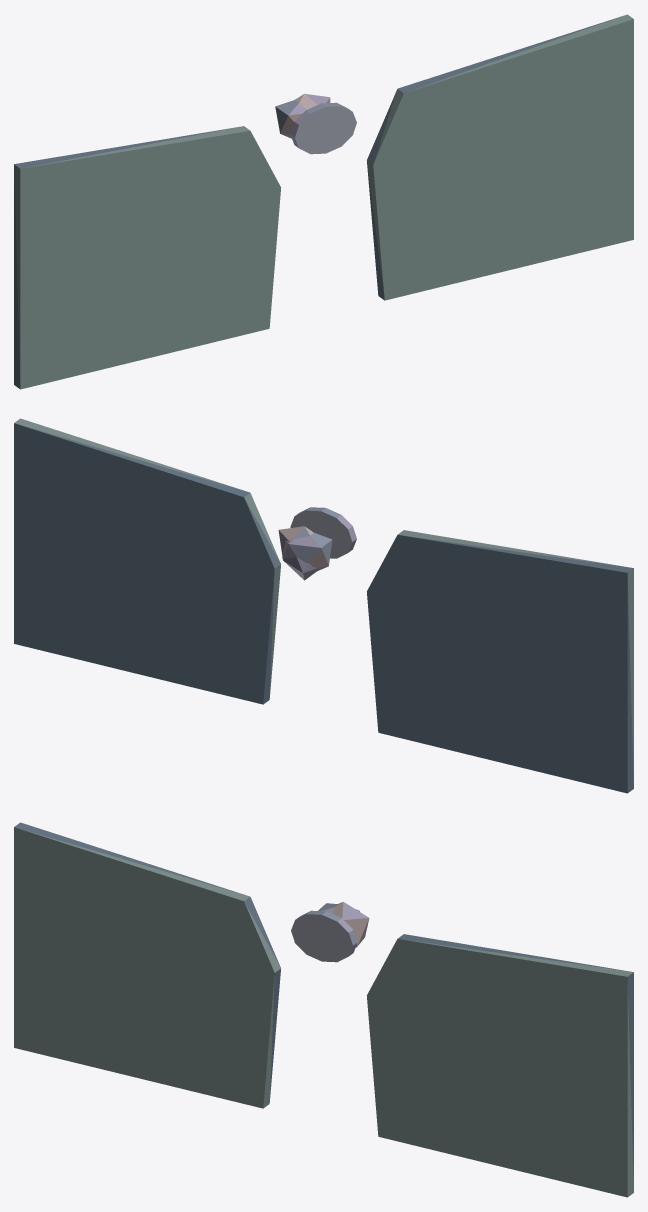
Rendered from environment-foreground.glb.
The picture shows the model from 3 angles, top to bottom: view 1: azimuth 30°, elevation 25°; view 2: azimuth 150°, elevation 25°; view 3: azimuth 330°, elevation 25°; orthographic projection.
Parts seen in each view (by area): view 1: ShoreRight, ShoreLeft, MeditationPlatform, RockSourceFrameLeft; view 2: ShoreRight, ShoreLeft, MeditationPlatform, RockSourceFrameLeft, RockSourceFrameRight; view 3: ShoreLeft, ShoreRight, MeditationPlatform, RockSourceFrameRight.
Boxes of the visible parts, bbox=[...] form: ShoreRight: bbox=[367, 14, 633, 300]; ShoreLeft: bbox=[14, 126, 280, 389]; MeditationPlatform: bbox=[290, 102, 356, 154]; RockSourceFrameLeft: bbox=[275, 100, 306, 138]; ShoreRight: bbox=[14, 418, 280, 704]; ShoreLeft: bbox=[367, 530, 633, 793]; MeditationPlatform: bbox=[290, 507, 356, 558]; RockSourceFrameLeft: bbox=[282, 532, 332, 571]; RockSourceFrameRight: bbox=[278, 526, 318, 580]; ShoreLeft: bbox=[14, 822, 280, 1108]; ShoreRight: bbox=[367, 934, 633, 1197]; MeditationPlatform: bbox=[291, 910, 357, 962]; RockSourceFrameRight: bbox=[333, 902, 369, 947].
Size of the model in its own units: 32 by 11 by 2.91.
